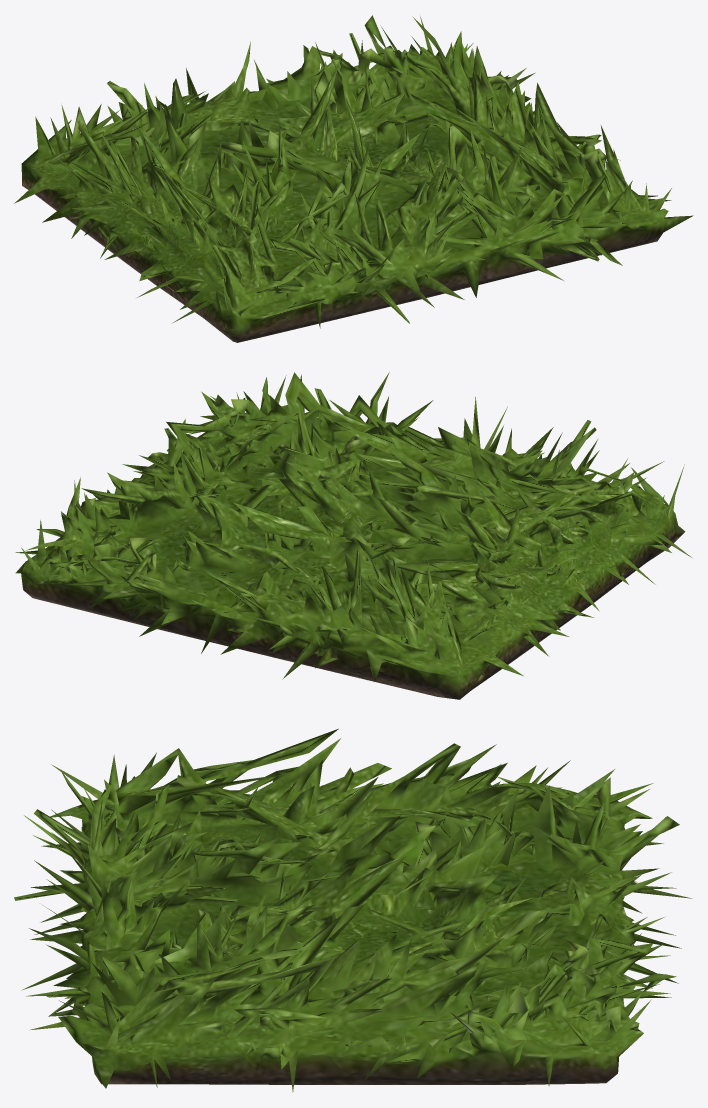
File: rumput.glb
3 renders of one model, top to bottom at view 1: azimuth 30°, elevation 25°; view 2: azimuth 150°, elevation 25°; view 3: azimuth 270°, elevation 25°, orthographic. The views are drawn at different scales.
Parts seen in each view (by area): view 1: tripo_node_c68d43a0-8aae-4132-96d6-89077a3e6fa0; view 2: tripo_node_c68d43a0-8aae-4132-96d6-89077a3e6fa0; view 3: tripo_node_c68d43a0-8aae-4132-96d6-89077a3e6fa0.
Part boxes in pixels (<box>): tripo_node_c68d43a0-8aae-4132-96d6-89077a3e6fa0: <box>14,15,693,342</box>; tripo_node_c68d43a0-8aae-4132-96d6-89077a3e6fa0: <box>15,372,691,699</box>; tripo_node_c68d43a0-8aae-4132-96d6-89077a3e6fa0: <box>14,728,691,1092</box>.
Bounding box in the file's own units: 1 × 0.1979 × 0.9548.
Materials: 1 (1 with a texture image).
